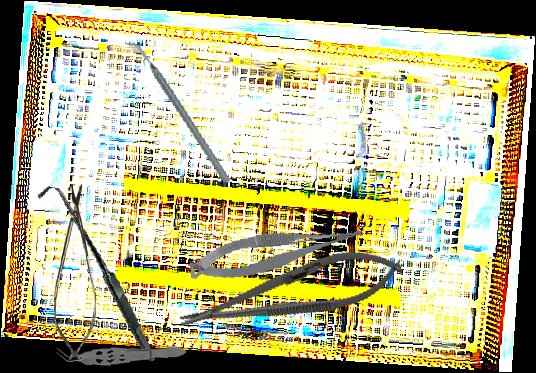Chopper: (124, 26, 232, 197)
Hook Surgical: (10, 184, 184, 362)
Micro Scissor: (187, 220, 368, 285), (54, 184, 96, 361)
Needle Holder: (173, 238, 408, 347)
Tissue Forceps: (53, 340, 188, 369)
